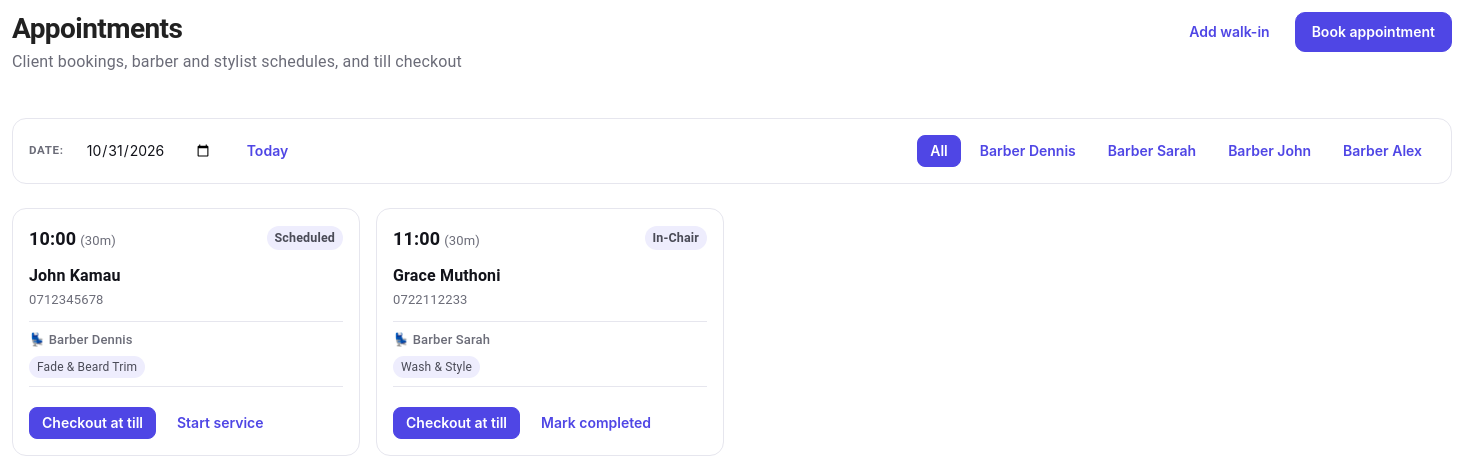
Test: AppointmentsPage › filters appointments by staff member tab
Check: the heading "John Kamau" is shown, box [29,266,120,285]
# Click on Barber Sarah tab
Click the button "Barber Sarah" at x=1152, y=151, box [1095,135,1209,167]
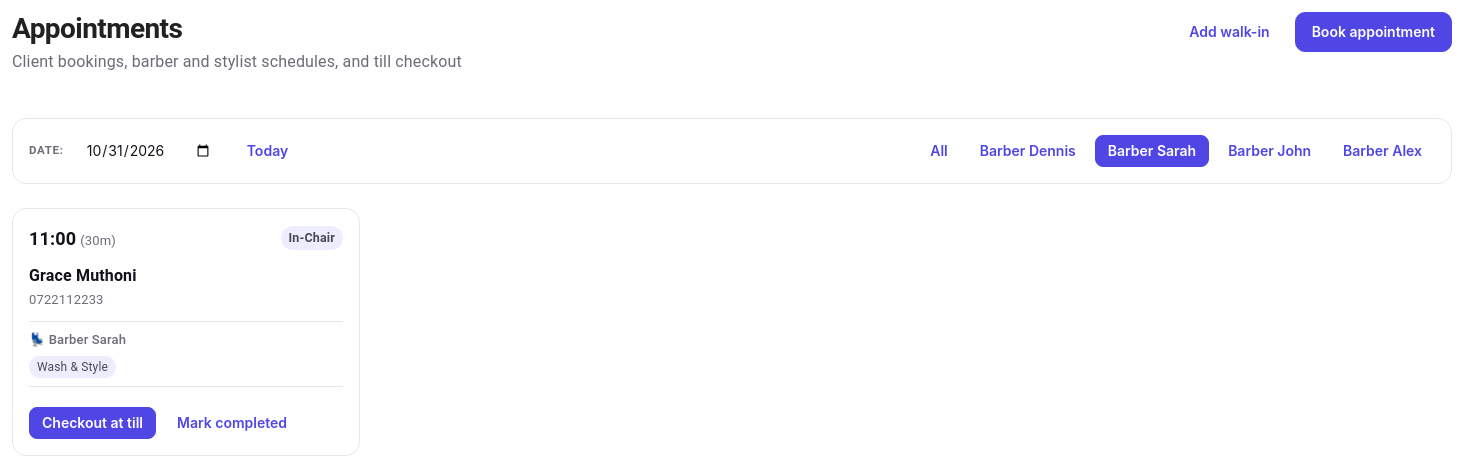
Check: the heading "Grace Muthoni" is shown, box [29,266,137,285]
Check: the heading "John Kamau" is gone
